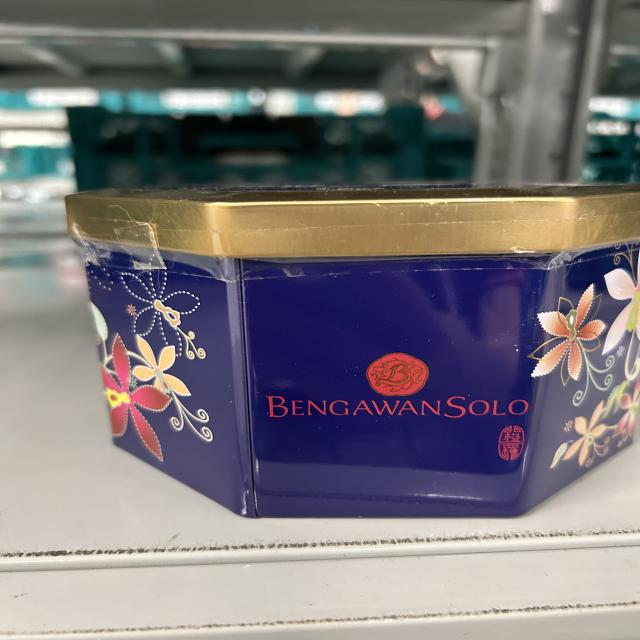object_name: (63, 186, 640, 516)
